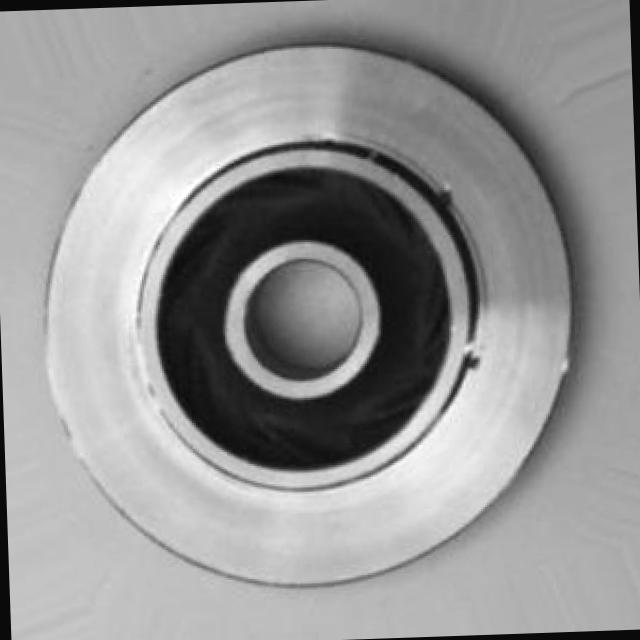Defect: (462, 348, 486, 370)
